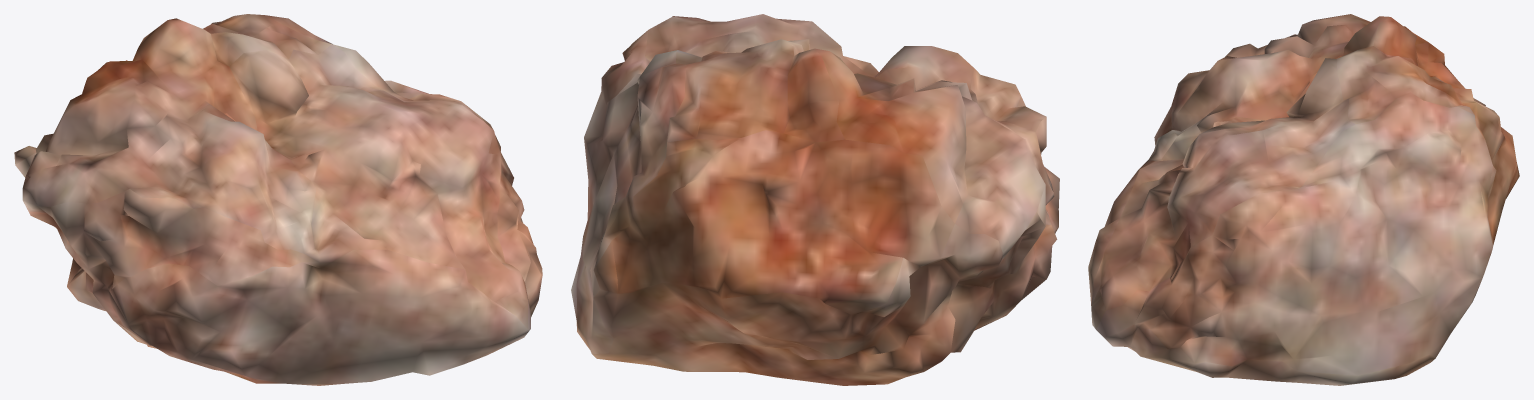
File: ph-namaqualand-rocks-01.lod1.glb
3 views of the same model, side by side, from view 1: azimuth 30°, elevation 25°; view 2: azimuth 150°, elevation 25°; view 3: azimuth 270°, elevation 25° (orthographic). The views are drawn at different scales.
Visible parts, largest first — view 1: namaqualand_rocks_02_a; view 2: namaqualand_rocks_02_a; view 3: namaqualand_rocks_02_a.
Part boxes in pixels (x1=…): namaqualand_rocks_02_a: x1=14, y1=14, x2=542, y2=385; namaqualand_rocks_02_a: x1=571, y1=14, x2=1059, y2=385; namaqualand_rocks_02_a: x1=1088, y1=14, x2=1519, y2=385.
Bounding box in the file's own units: 0.2254 × 0.1521 × 0.2158.
1 material, 1 textured.
